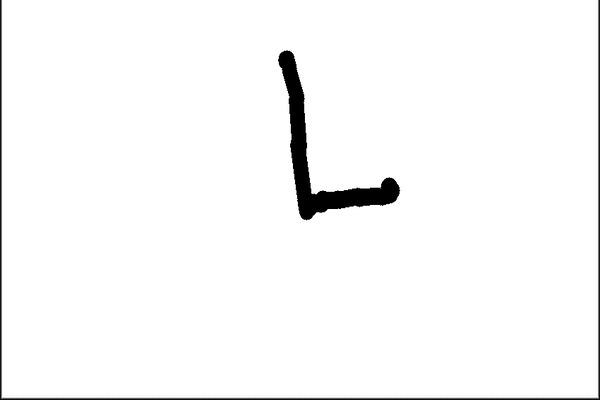L: (271, 43, 407, 229)
